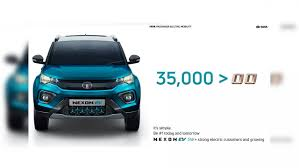XUV 400: (32, 32, 142, 134)
